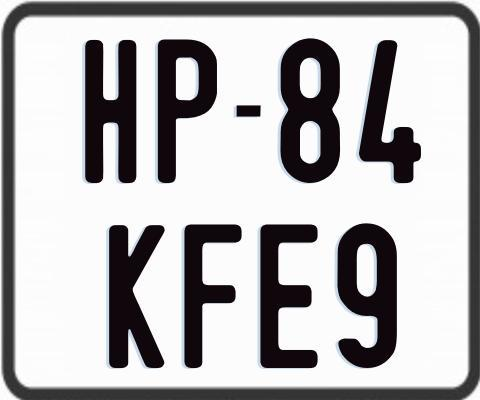4: (358, 37, 424, 182)
8: (279, 37, 339, 185)
9: (335, 220, 395, 371)
E: (259, 222, 318, 369)
F: (182, 224, 242, 371)
H: (85, 38, 140, 185)
K: (109, 222, 170, 371)
P: (156, 36, 216, 180)
